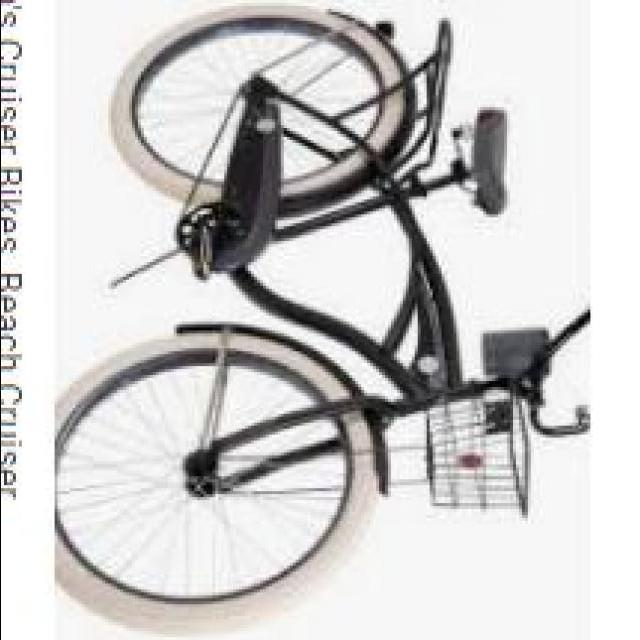bicycle: (64, 7, 608, 617)
